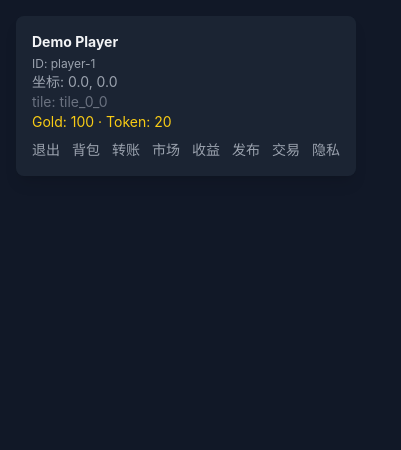
PlayerHUD inventory › shows creator revenue summary when authorized
Click the button "收益" at (206, 150), box [192, 140, 220, 160]
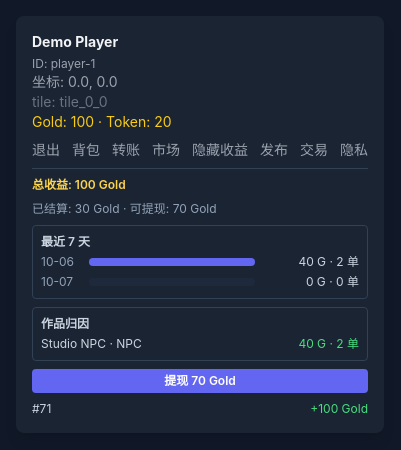
Result: the text "总收益: 100 Gold" is shown at [32, 177, 126, 192]
Result: the text "#71" is shown at [32, 401, 51, 417]
